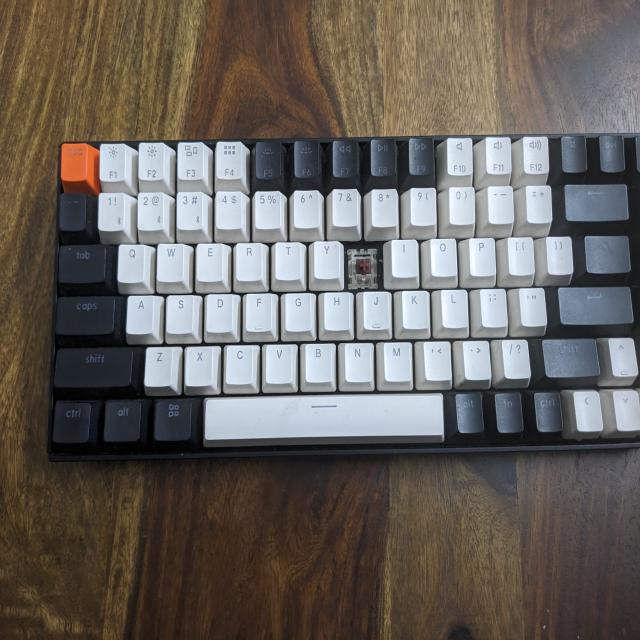C: (347, 247, 379, 286)
